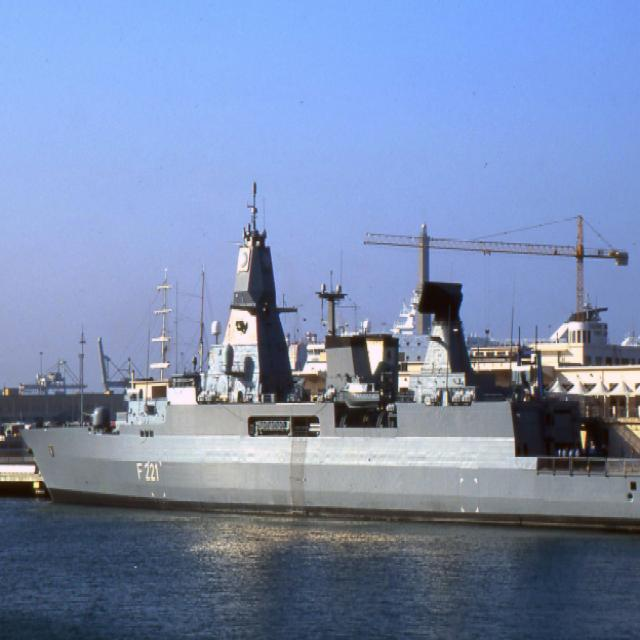Fragata: (16, 172, 640, 549)
